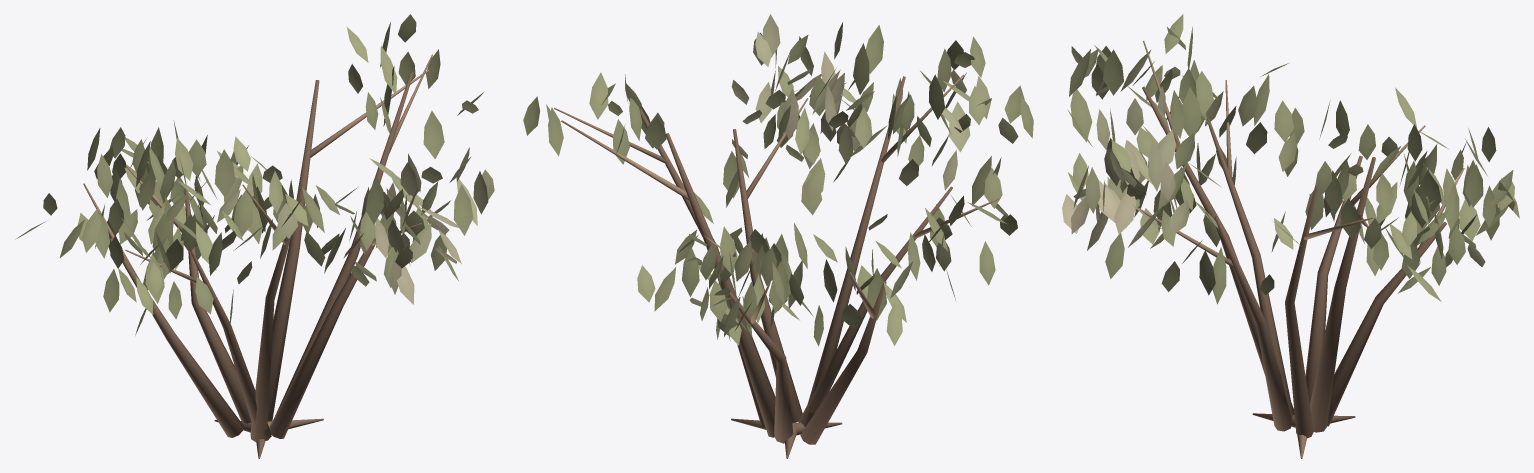
The model's file is bush_3d_06.glb.
The picture shows the model from 3 angles, left to right: view 1: azimuth 30°, elevation 25°; view 2: azimuth 150°, elevation 25°; view 3: azimuth 270°, elevation 25°; orthographic projection. The views are drawn at different scales.
Parts seen in each view (by area): view 1: bush_3d_06_foliage, bush_3d_06_wood; view 2: bush_3d_06_foliage, bush_3d_06_wood; view 3: bush_3d_06_foliage, bush_3d_06_wood.
Boxes of the visible parts, left/top/right/bottom form: bush_3d_06_foliage: left=15, top=14, right=494, bottom=335; bush_3d_06_wood: left=83, top=54, right=432, bottom=458; bush_3d_06_foliage: left=523, top=14, right=1033, bottom=346; bush_3d_06_wood: left=554, top=74, right=1000, bottom=458; bush_3d_06_foliage: left=1062, top=14, right=1519, bottom=304; bush_3d_06_wood: left=1138, top=41, right=1464, bottom=458.
Size of the model in its own units: 2.35 by 1.91 by 2.22.
